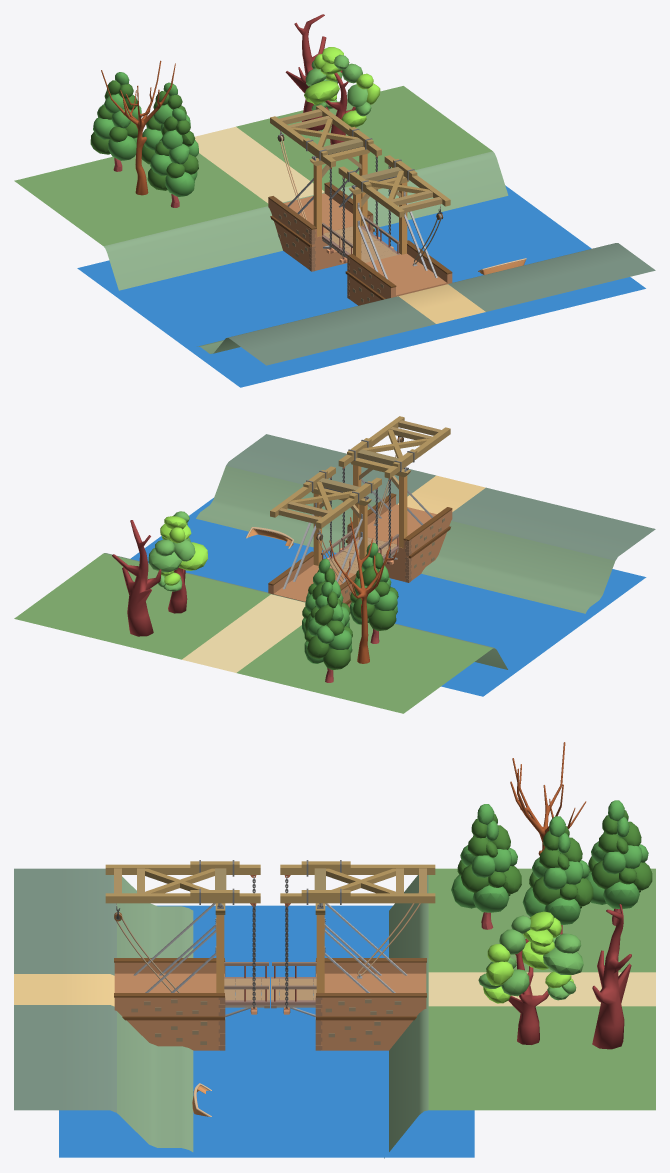
Rendered from Langlois Bridge.fbx.
The picture shows the model from 3 angles, top to bottom: view 1: azimuth 30°, elevation 25°; view 2: azimuth 150°, elevation 25°; view 3: azimuth 270°, elevation 25°; orthographic projection. The views are drawn at different scales.
Parts seen in each view (by area): view 1: Plane.002, Plane.010, Plane.009, Plane.001, Cube.001, Plane.012, Plane.004, Oak.010, Plane.007, Poplar, Plane.003, Poplar.006 (+17 smaller); view 2: Plane.010, Plane.002, Plane, Plane.009, Plane.012, Cube.001, Plane.004, Oak.003, Plane.007, Plane.003, Poplar.007, simple tree002.001 (+18 smaller); view 3: Plane.002, Plane.010, Plane.009, Cube.001, Plane, Plane.001, Plane.004, Plane.012, Oak.012, Plane.007, Oak.003, Oak.010 (+22 smaller).
Boxes of the visible parts, x1,y1,x2,y2 form: Plane.002: (77,185,645,387); Plane.010: (14,86,492,246); Plane.009: (227,243,655,365); Plane.001: (104,151,508,290); Cube.001: (268,185,452,305); Plane.012: (195,126,324,203); Plane.004: (270,105,450,217); Oak.010: (304,47,380,127); Plane.007: (397,284,485,323); Poplar: (150,108,198,196); Plane.003: (313,153,407,259); Poplar.006: (93,72,141,160); Plane.010: (14,553,492,713); Plane.002: (130,498,646,696); Plane: (196,466,615,613); Plane.009: (226,434,655,560); Plane.012: (182,594,305,672); Cube.001: (268,496,452,607); Plane.004: (270,416,450,528); Oak.003: (112,520,161,636); Plane.007: (398,475,485,513); Plane.003: (313,465,407,565); Poplar.007: (304,591,352,670); simple tree002.001: (329,517,397,663); Plane.002: (59,905,474,1157); Plane.010: (428,868,655,1110); Plane.009: (14,868,116,1112); Cube.001: (114,962,426,1050); Plane: (117,876,193,1151); Plane.001: (384,875,428,1158); Plane.004: (105,864,435,903); Plane.012: (428,972,655,1006); Oak.012: (478,915,583,1000); Plane.007: (14,974,114,1006); Oak.003: (592,904,631,1049); Oak.010: (483,911,573,1003).
Size of the model in its own units: 13127 by 5300 by 14133.
